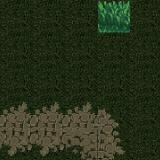Slow: (97, 1, 130, 33)
